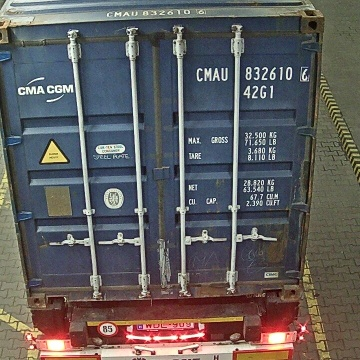serial_id: (196, 66, 309, 81)
